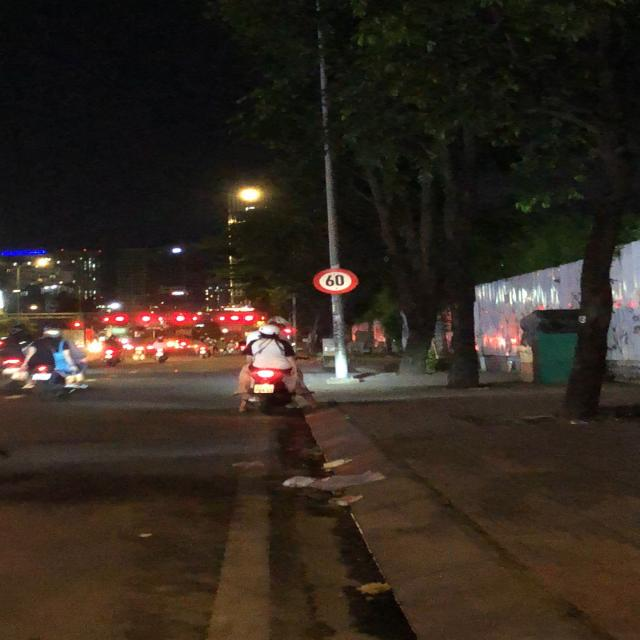Bien bao toc do toi da cho phep: (311, 268, 359, 294)
